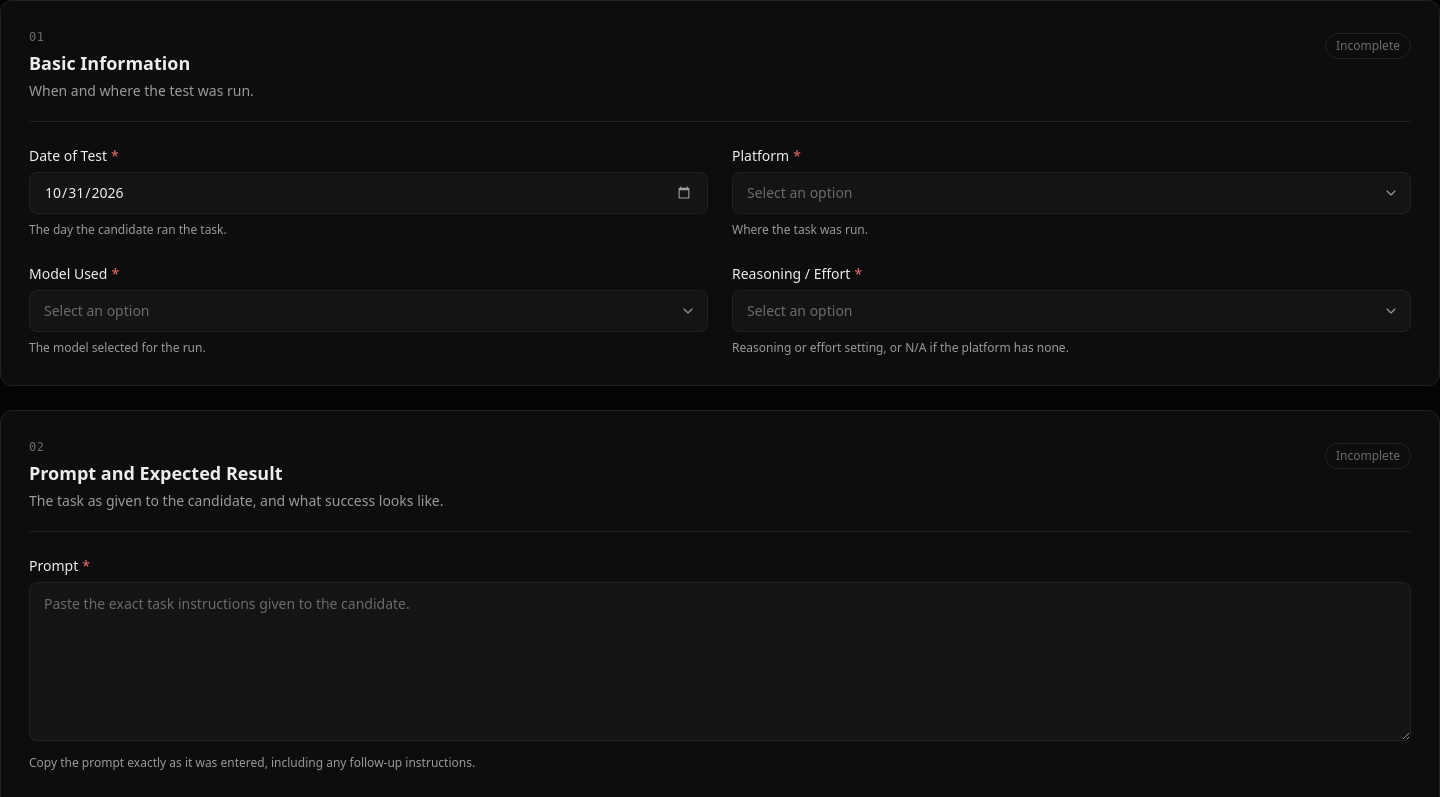
it: EvaluationForm › shows a field error on blur before the first submit
This screenshot has width=1440, height=797.
Click the text box named "Prompt*" at (720, 661), box top-left (29, 582), bottom-right (1411, 740)
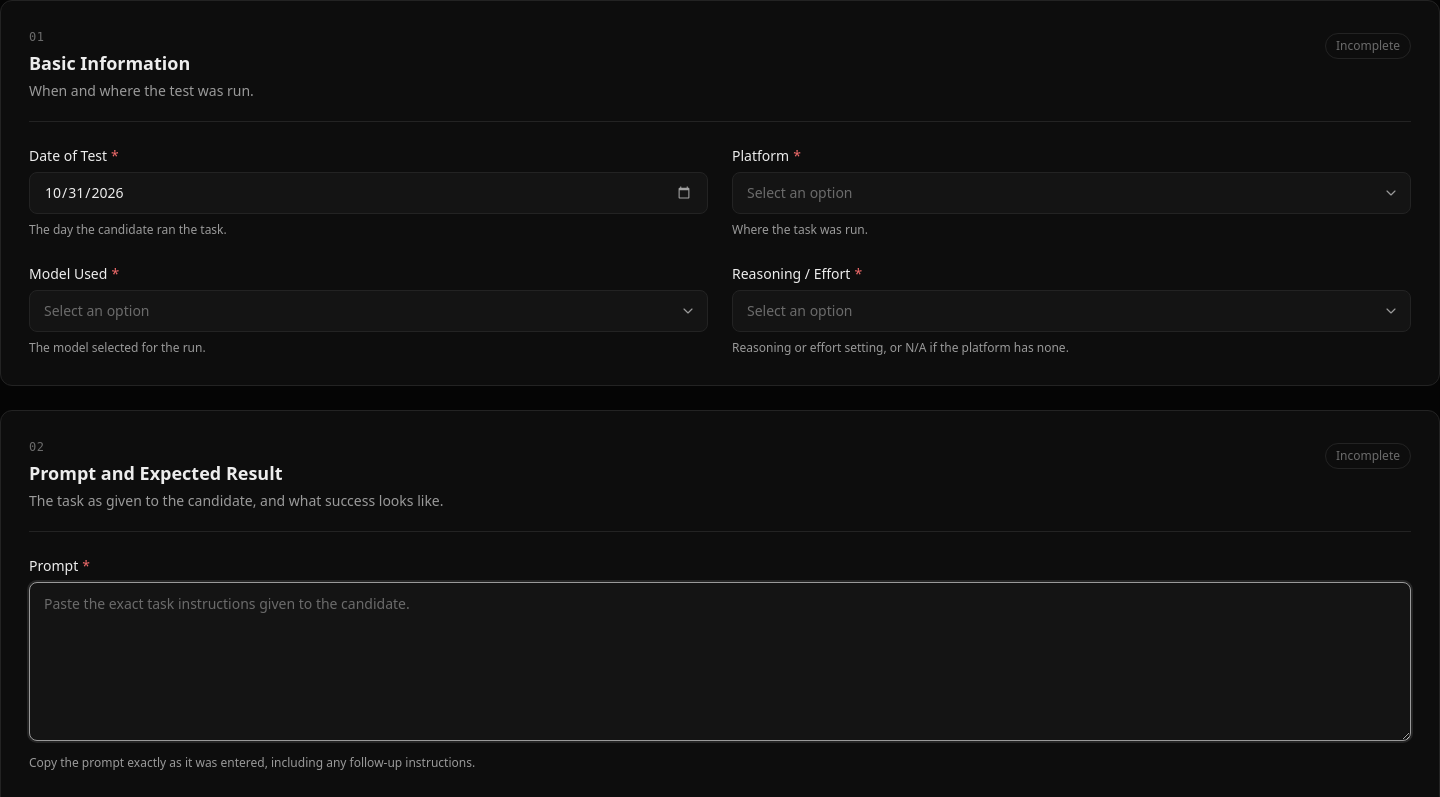
Press Tab
(page scrolled)
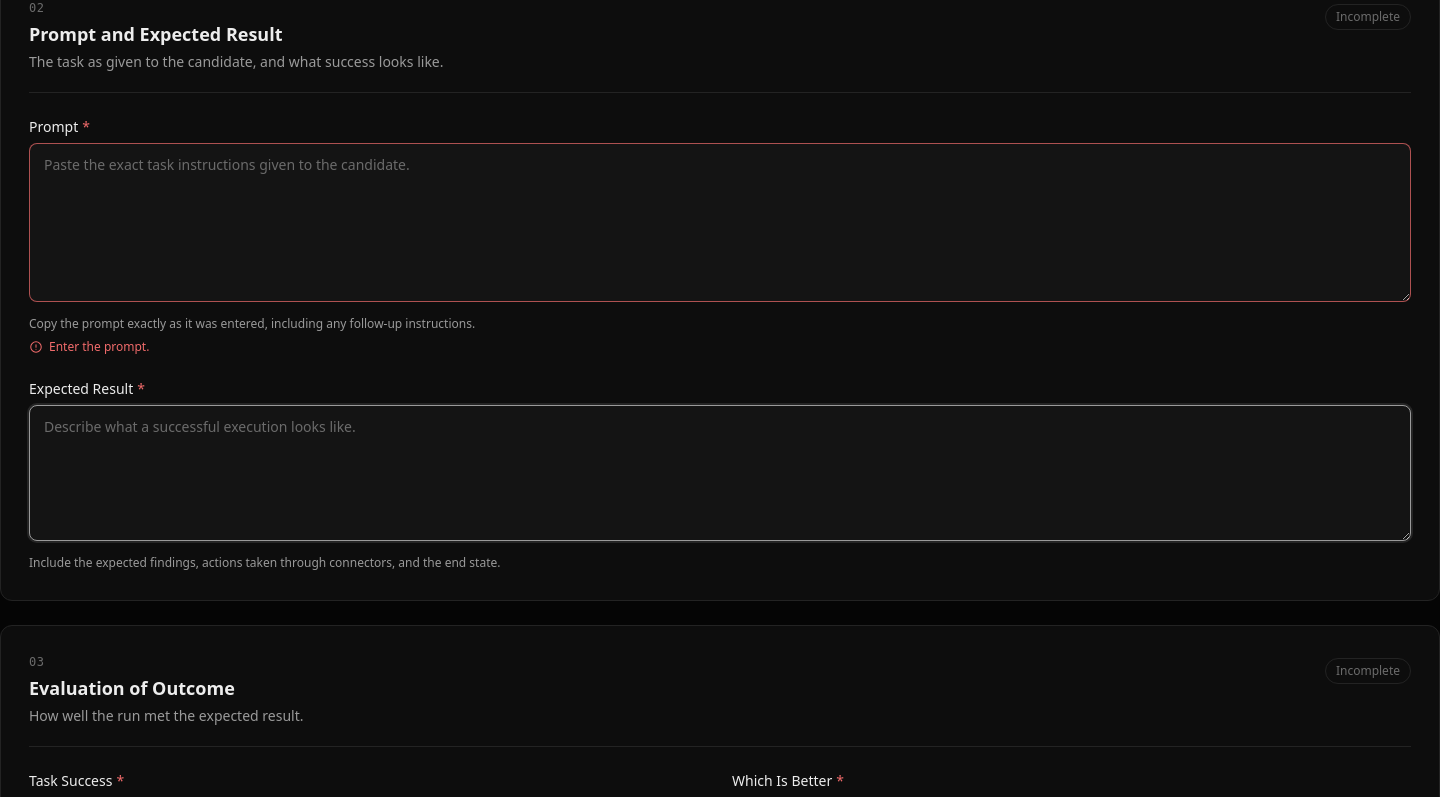
Expected: the text "Enter the prompt." is shown, top-left (29, 338), bottom-right (149, 355)
